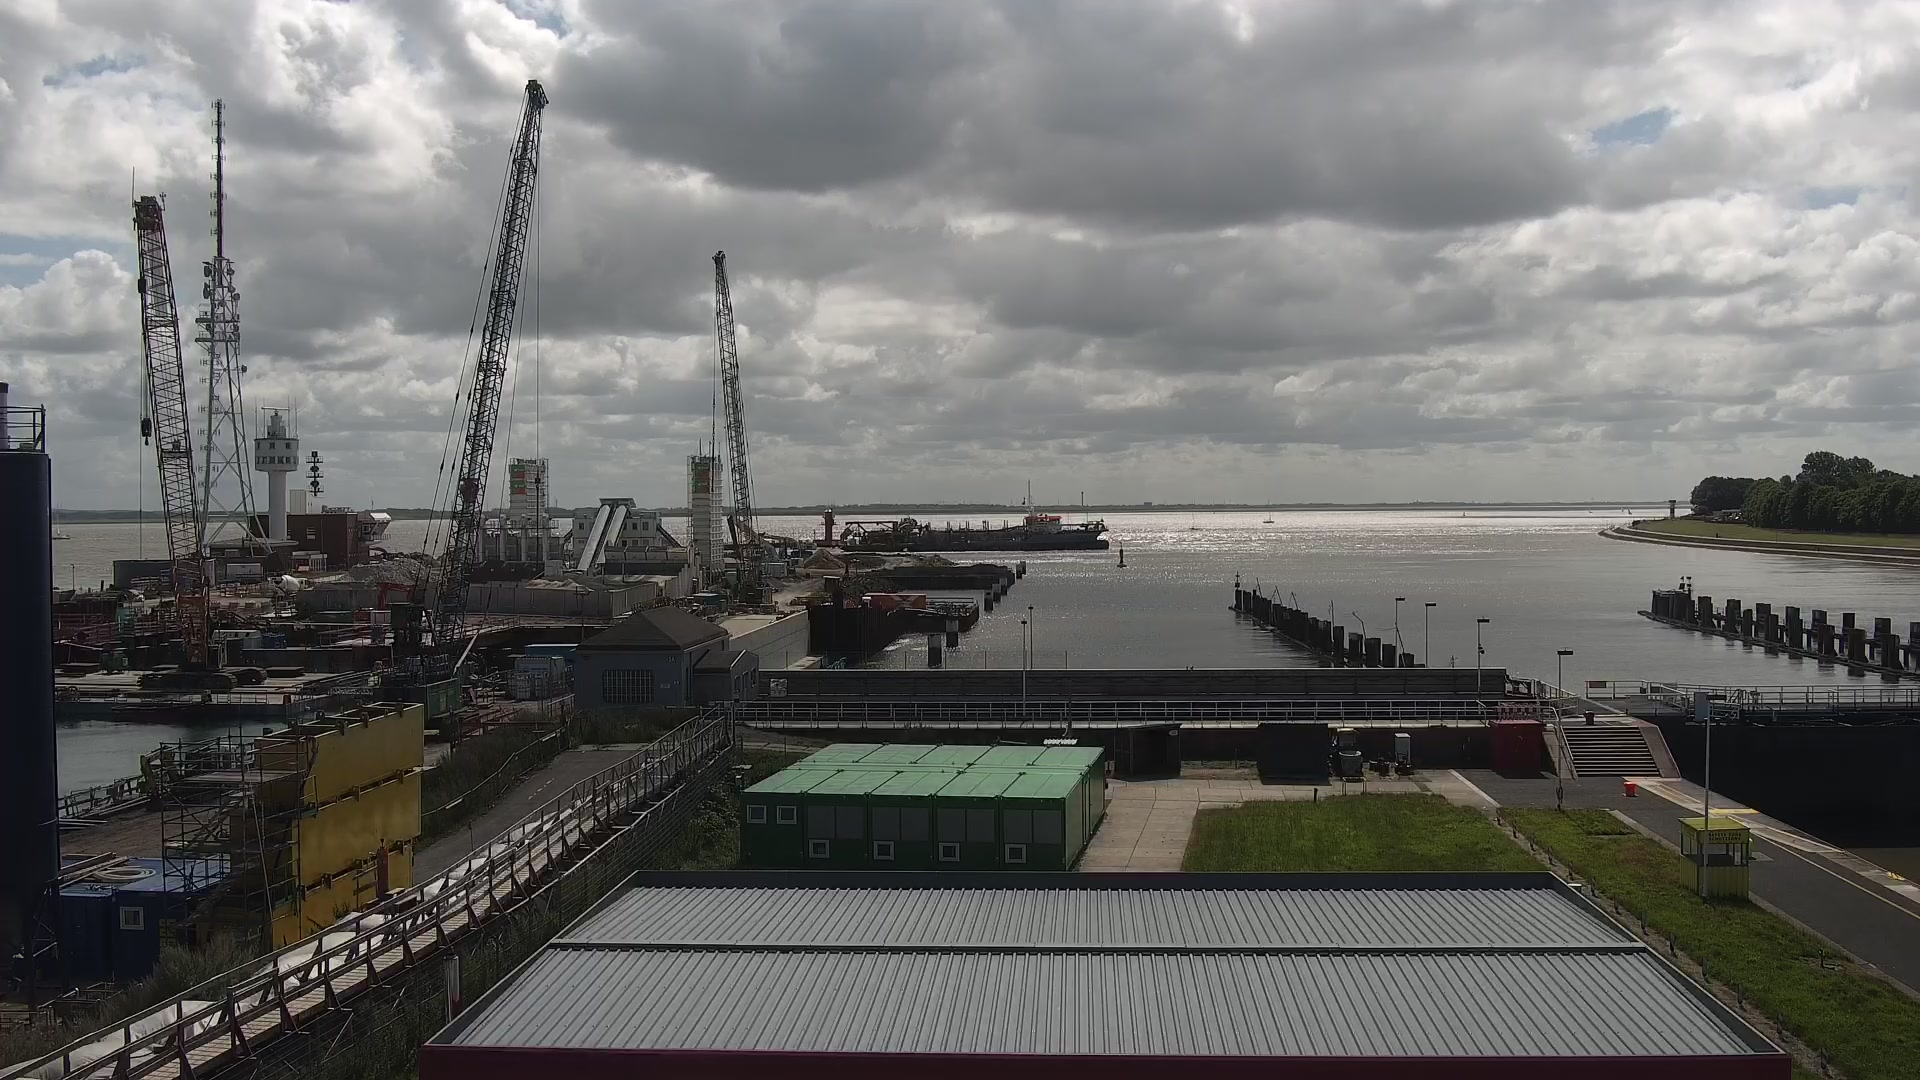sea: (839, 477, 1109, 553), (51, 513, 70, 541), (1187, 514, 1201, 531), (1262, 506, 1275, 524)
